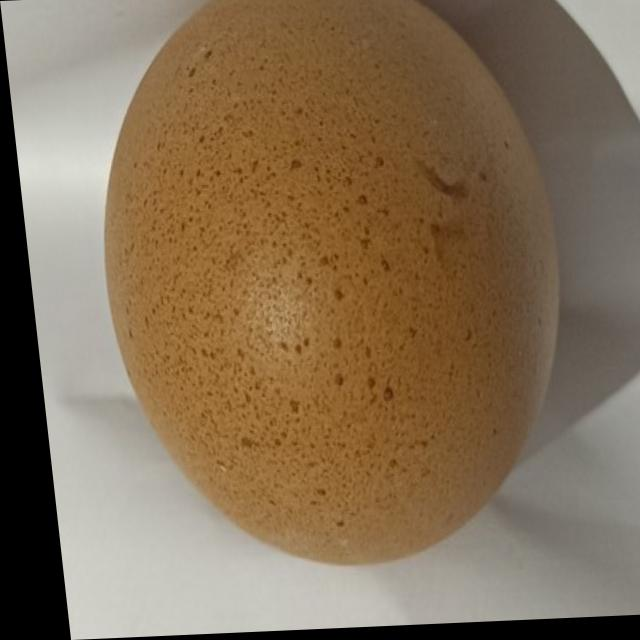unfresh: (60, 0, 576, 574)
